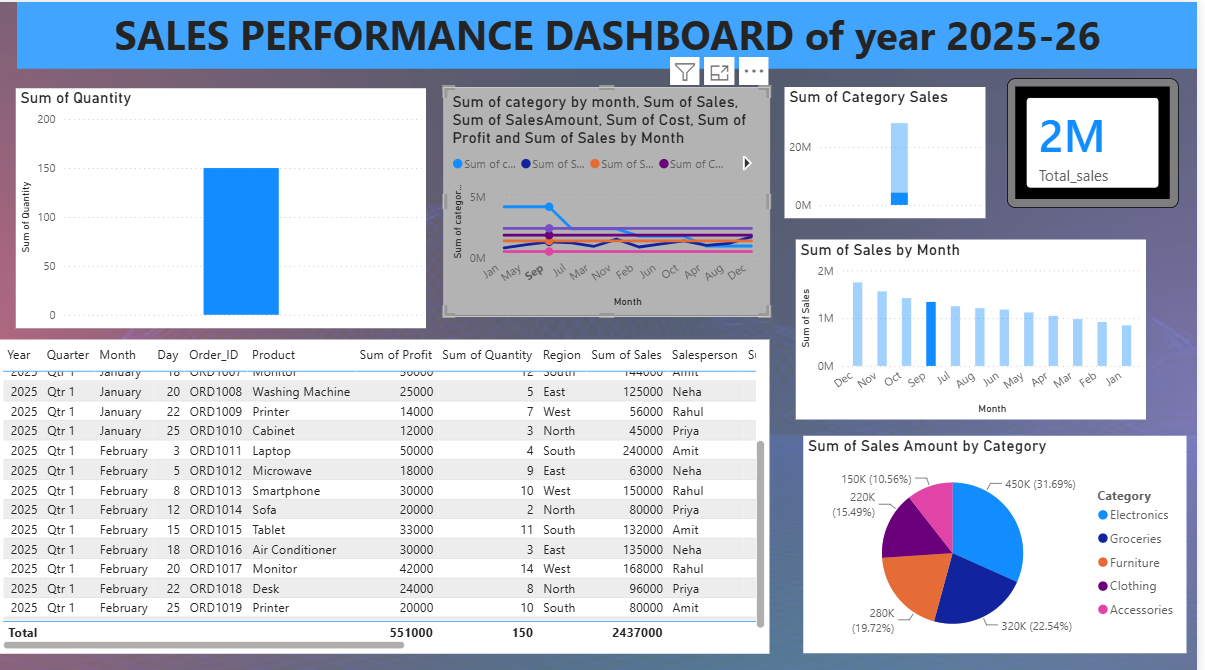

What the dashboard file says about the page in this screenshot:
{"tool":"powerbi","page":{"name":"Page 1","canvas":[1280,720],"ordinal":0},"visuals":[{"type":"textbox","box":[20.8,0,1259.5,70.9],"z":0},{"type":"cardVisual","fields":{"Data":["Sum(SalesData.Sales)","Sum(SalesData.Sales)"]},"box":[1077.4,80.8,183.4,138.7],"z":1000},{"type":"clusteredColumnChart","fields":{"Y":["Sum(SalesData.Quantity)"]},"box":[20.5,91.7,437.9,255.8],"z":2000},{"type":"tableEx","fields":{"Values":["SalesData.Order_Date.Variation.Date Hierarchy.Year","SalesData.Order_Date.Variation.Date Hierarchy.Quarter","SalesData.Order_Date.Variation.Date Hierarchy.Month","SalesData.Order_Date.Variation.Date Hierarchy.Day","SalesData.Order_ID","SalesData.Product","Sum(SalesData.Profit)","Sum(SalesData.Quantity)","SalesData.Region","Sum(SalesData.Sales)","SalesData.Salesperson","Sum(SalesData.Target)"]},"box":[0,359.5,824,335.4],"z":3000},{"type":"lineChart","fields":{"Y":["Sum(Month.CategorySales)","Sum(Month.Sales)","Sum(sales2.SalesAmount)","Sum(SalesData.Cost)","Sum(SalesData.Profit)","Sum(SalesData.Sales)"],"Category":["Month.Month"]},"box":[475.3,90.5,348.7,244.9],"z":4000},{"type":"pieChart","fields":{"Category":["sales2.Category"],"Y":["Sum(sales2.SalesAmount)"]},"box":[860.2,463.3,409,231.6],"z":5000},{"type":"ribbonChart","fields":{"Y":["Sum(Month.CategorySales)"]},"box":[839.7,90.5,214.7,139.9],"z":6000},{"type":"ribbonChart","fields":{"Category":["Month.Month"],"Y":["Sum(Month.Sales)"]},"box":[851.7,253.4,374,191.8],"z":7000}]}

Visuals, with their boxes in screenshot pixels (x1, y1, x2, y2), scaled from the page's 1280x720 canvas onto the 1205x670 screenshot:
textbox: box(20, 0, 1204, 66)
cardVisual - Sum(SalesData.Sales) x Sum(SalesData.Sales): box(1014, 75, 1187, 204)
clusteredColumnChart - Sum(SalesData.Quantity): box(19, 85, 432, 323)
tableEx - SalesData.Order_Date.Variation.Date Hierarchy.Year x SalesData.Order_Date.Variation.Date Hierarchy.Quarter: box(0, 335, 776, 647)
lineChart - Sum(Month.CategorySales) x Sum(Month.Sales): box(447, 84, 776, 312)
pieChart - sales2.Category x Sum(sales2.SalesAmount): box(810, 431, 1195, 647)
ribbonChart - Sum(Month.CategorySales): box(790, 84, 993, 214)
ribbonChart - Month.Month x Sum(Month.Sales): box(802, 236, 1154, 414)
